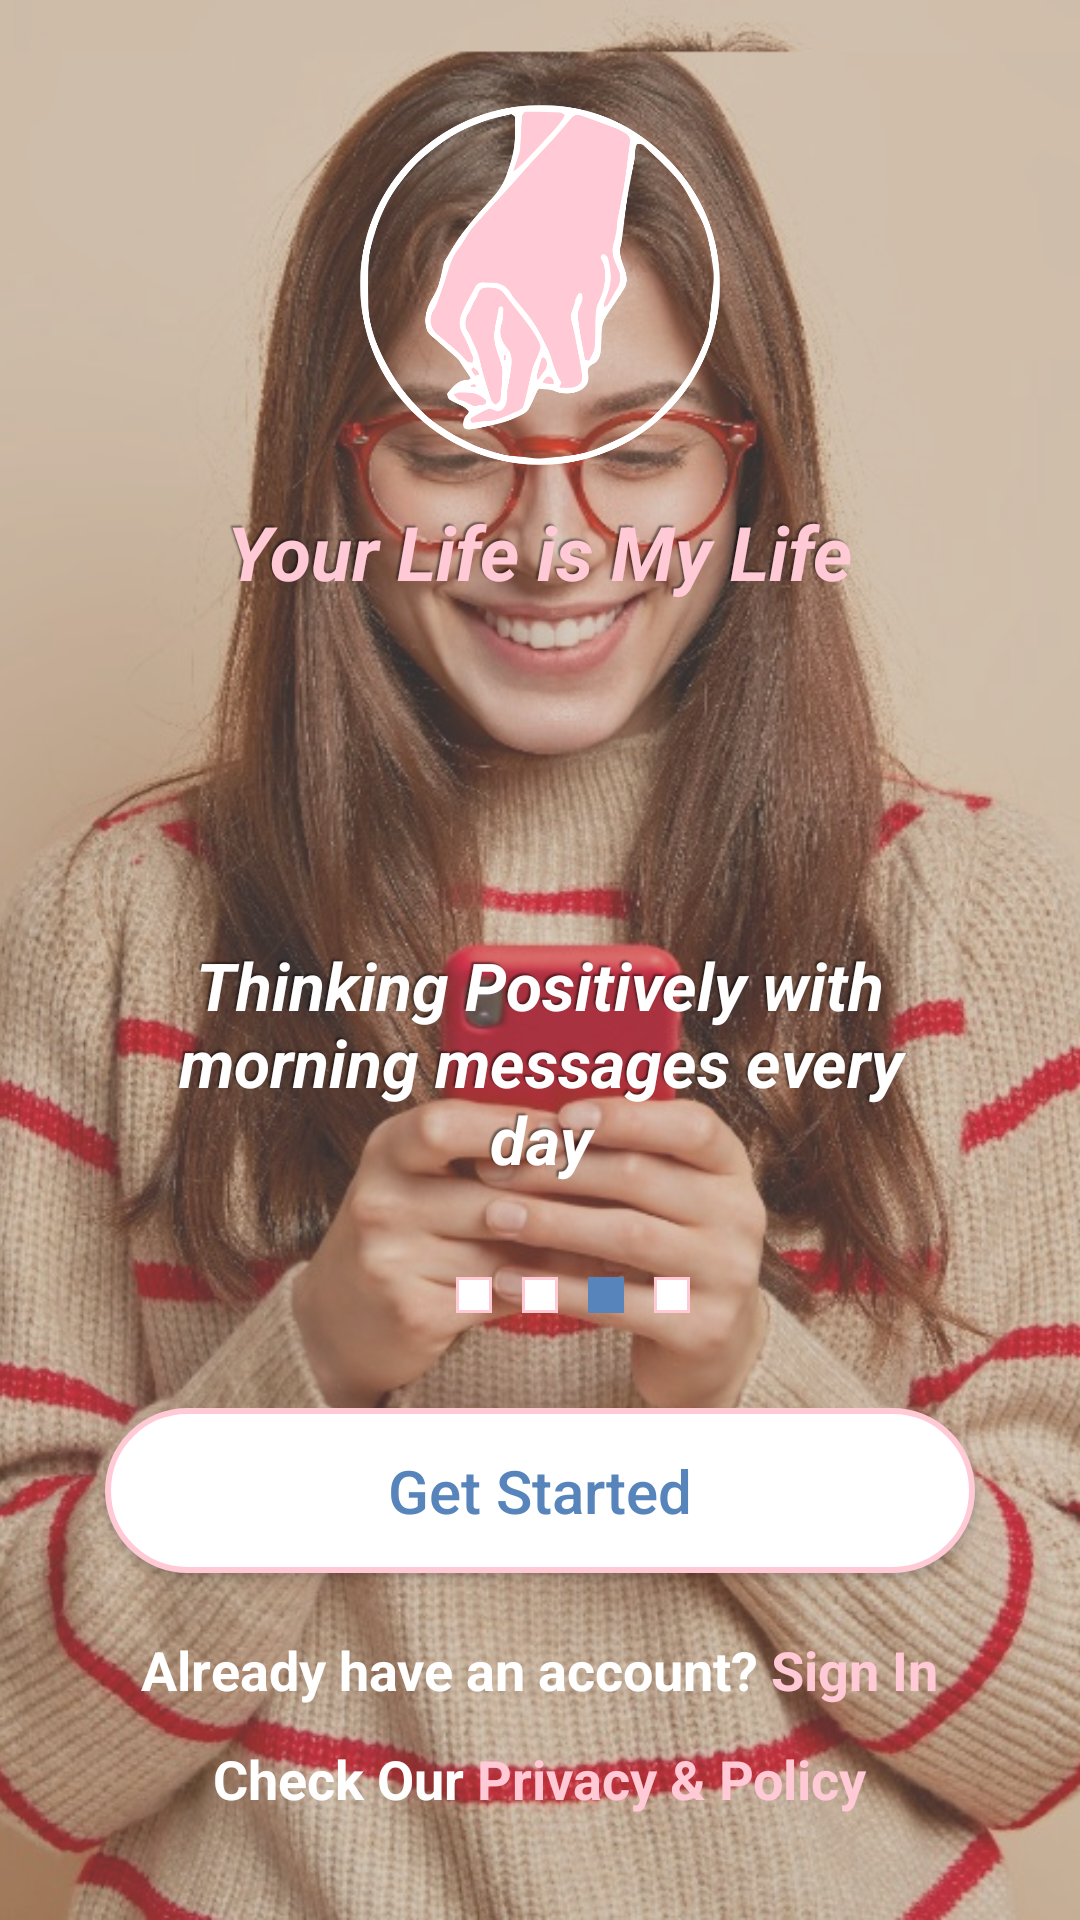

Screen size 1080 x 1920. Icon name, then its center in pixels as [x,y]:
hands tran: [540,285]
